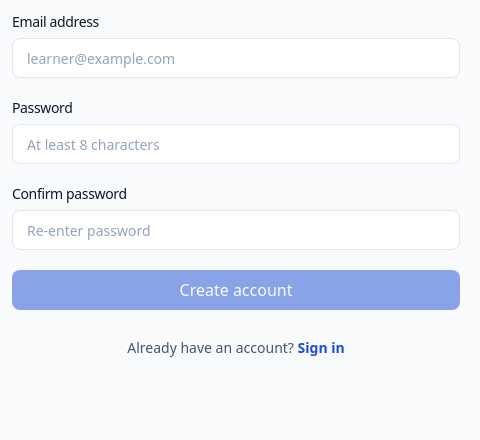
Test: SignupForm Component › displays error message when registration fails with ApiError
Type "existing@example.com" into the field labelled "Email address" at [236, 58], box [12,38,460,78]
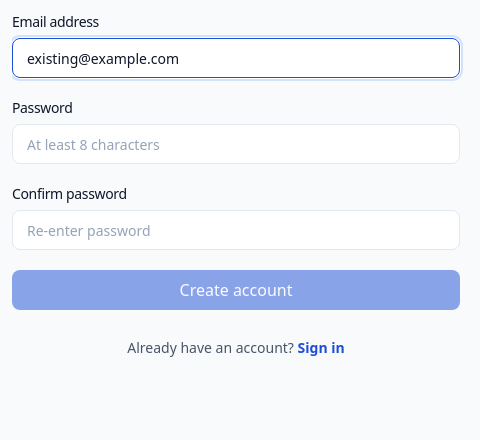
Type "StrongPassword123!" into the password field labelled "Password" at [236, 144], box [12,124,460,164]
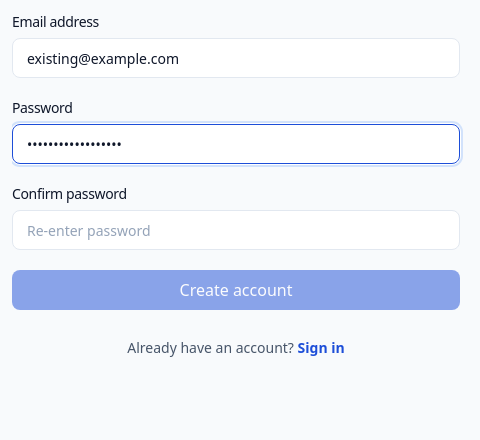
Type "StrongPassword123!" into the password field labelled "Confirm password" at [236, 230], box [12,210,460,250]
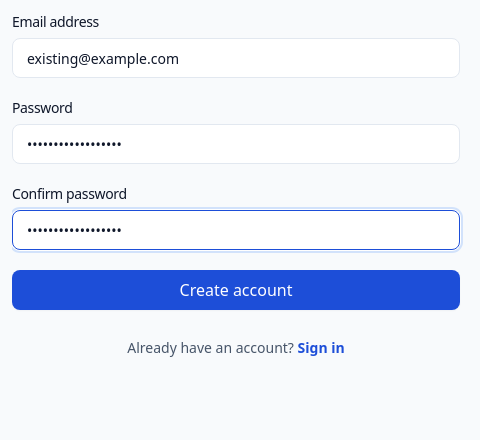
Click the button "Create account" at [236, 290], box [12,270,460,310]
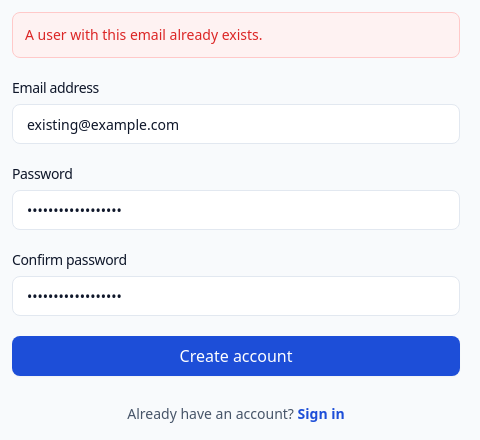
Check: the message reads "A user with this email already exists.", box [25,25,263,44]
